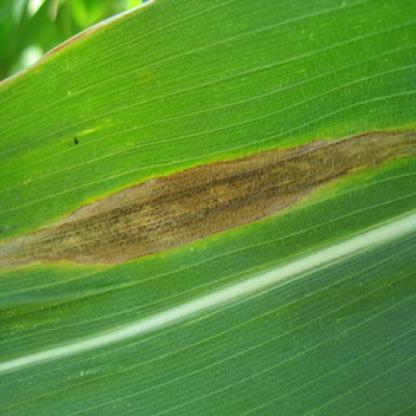Corn leaf blight: (4, 8, 415, 369)
